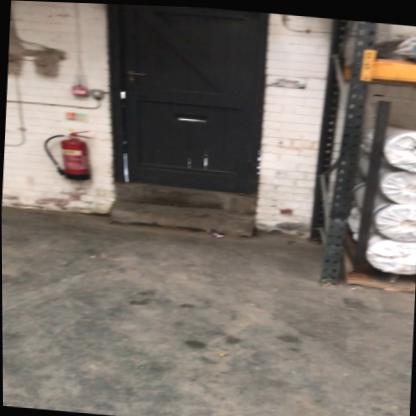vertical_damage: (321, 185, 360, 241)
